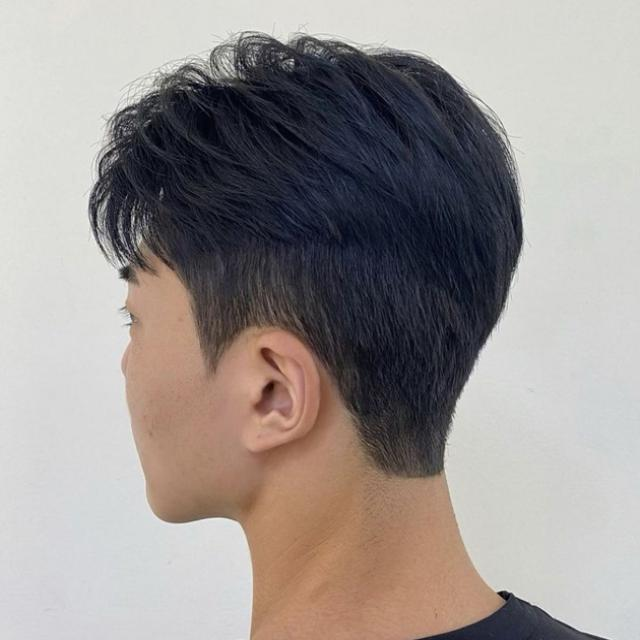Nonhelmet: (79, 12, 532, 538)
